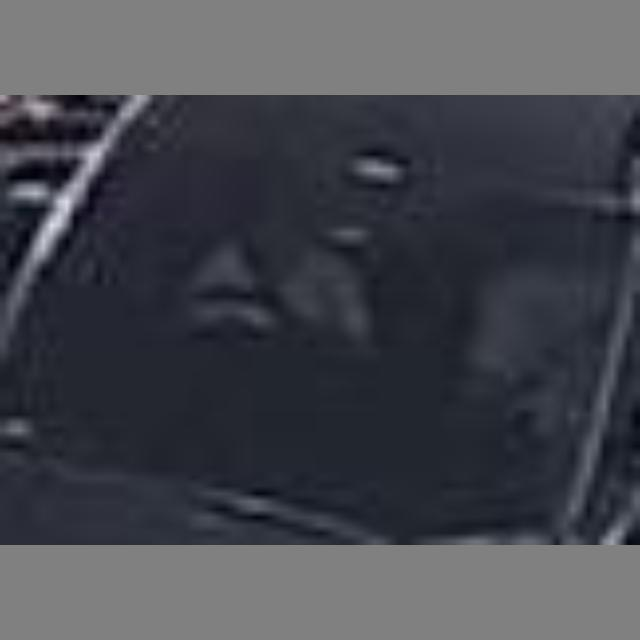pakai: (442, 237, 632, 458), (174, 214, 363, 379)
